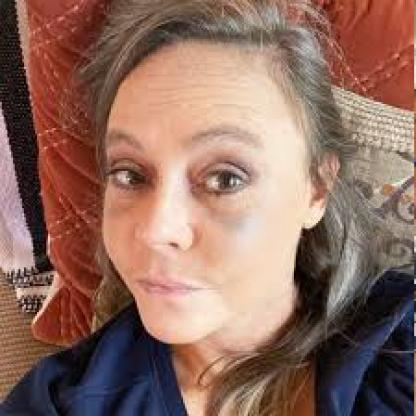darkspot: (303, 22, 337, 73), (136, 127, 170, 173), (126, 0, 168, 26), (101, 19, 126, 52), (105, 207, 130, 239), (124, 80, 146, 112), (268, 64, 284, 107), (276, 28, 294, 56), (229, 64, 243, 92), (162, 192, 176, 211), (294, 222, 306, 241), (172, 211, 182, 231), (389, 200, 399, 216), (362, 261, 370, 278)
